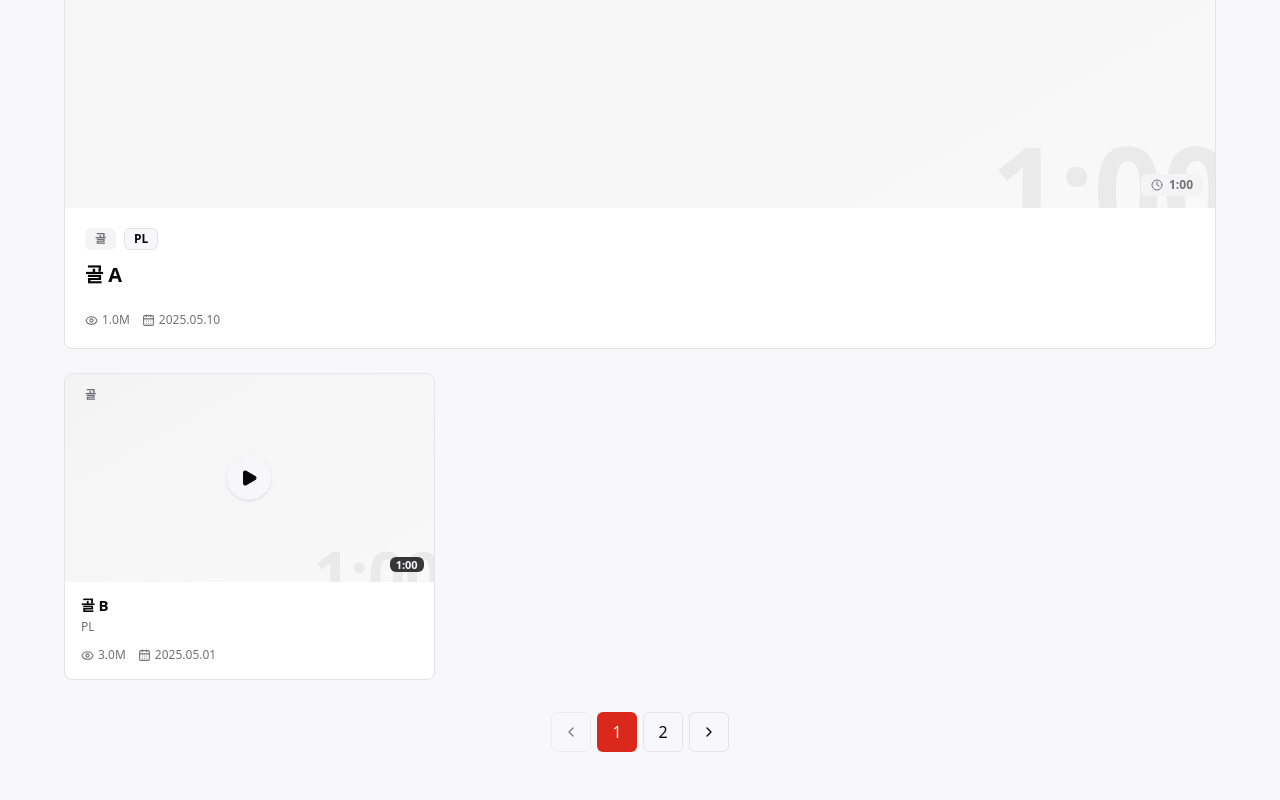
Test: HighlightsPage › 페이지네이션 클릭 시 다음 페이지 항목으로 교체된다
(page scrolled)
Expected: the heading "골 B" is shown, top-left (81, 595), bottom-right (108, 615)
Expected: the text "세이브 A" is not shown
Click the button "2".
click(663, 732)  # box top-left (643, 712), bottom-right (683, 752)
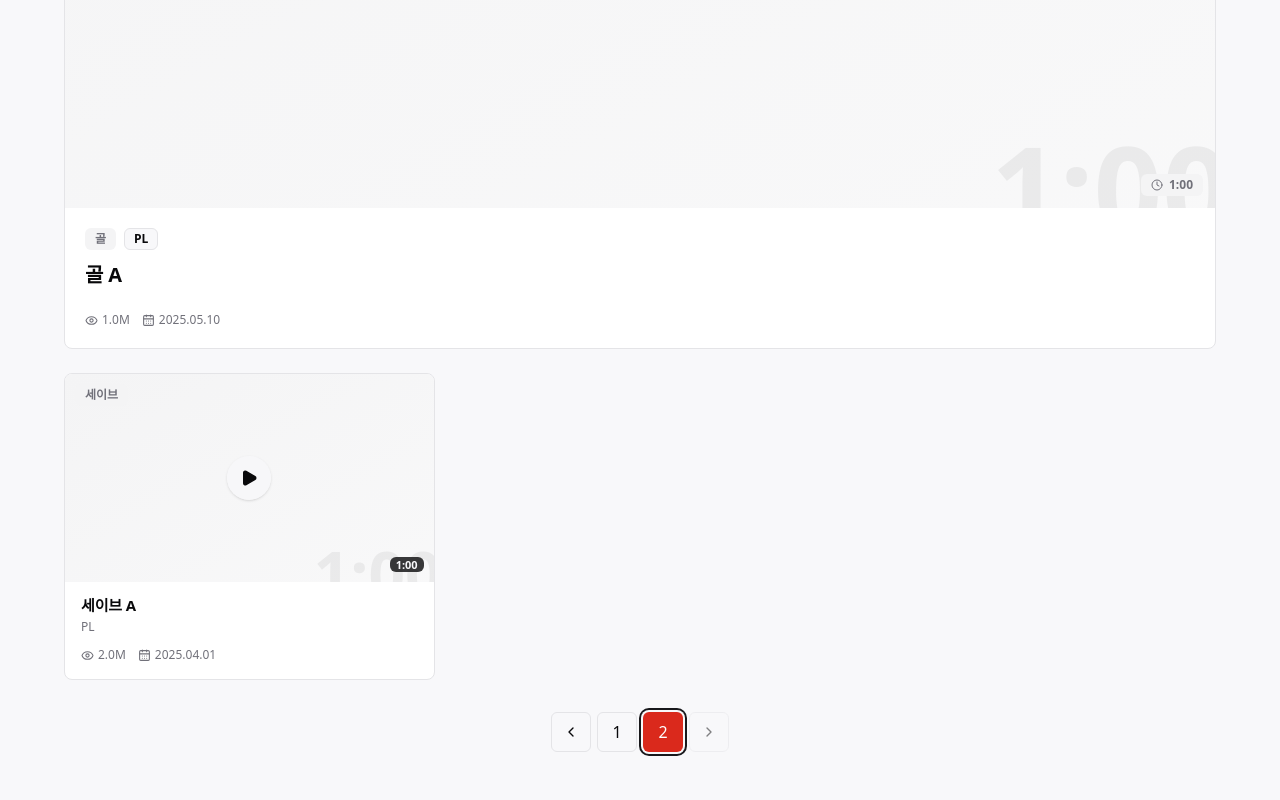
Now the heading "세이브 A" is shown, box top-left (81, 595), bottom-right (136, 615)
Now the link "골 B" is gone
